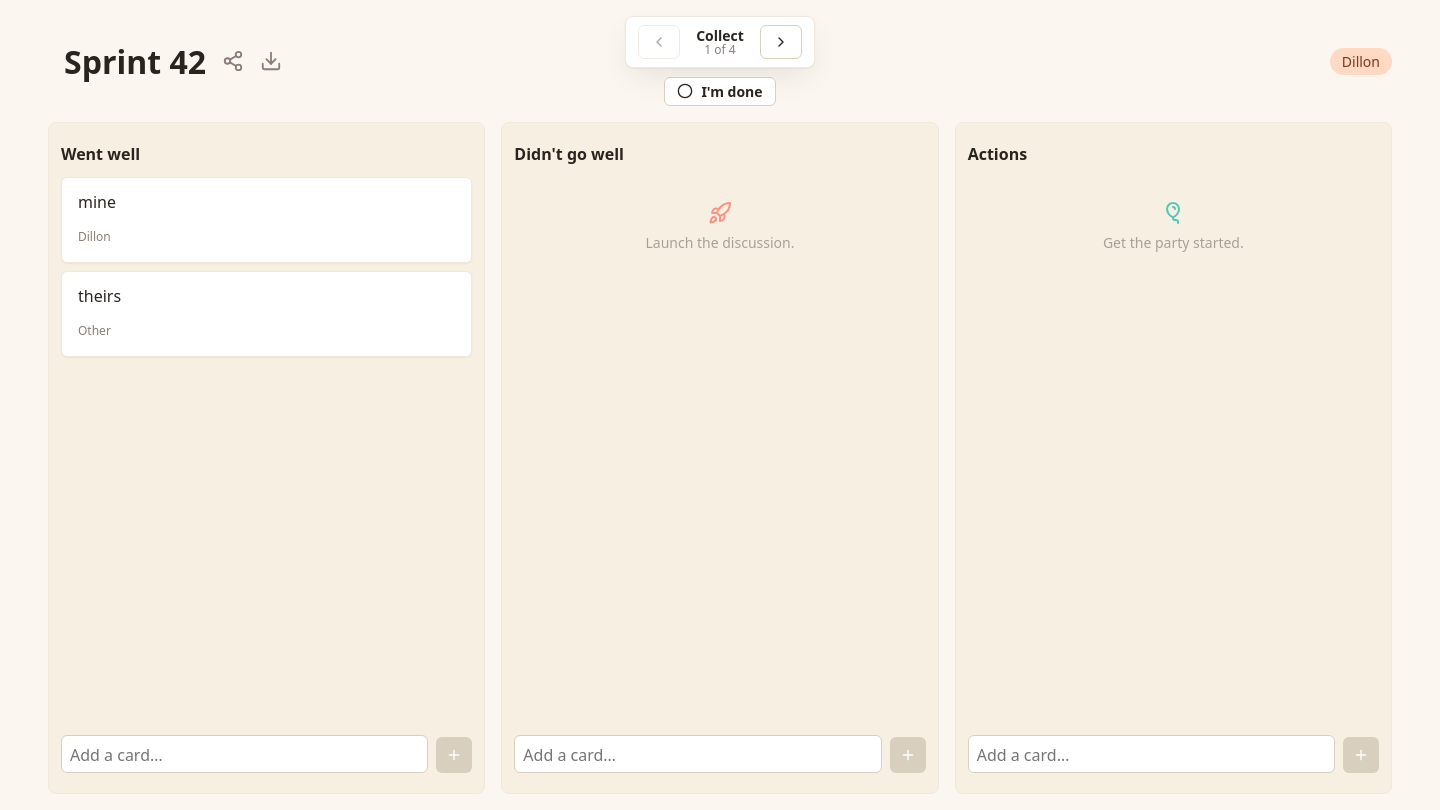
Test case: Room page › Discuss phase: hides VoteBudget + controls; renders aggregate badges from non-zero totals
Click the button named "Advance: Vote". click: x=781, y=42
box: x1=760 y1=25 x2=802 y2=59
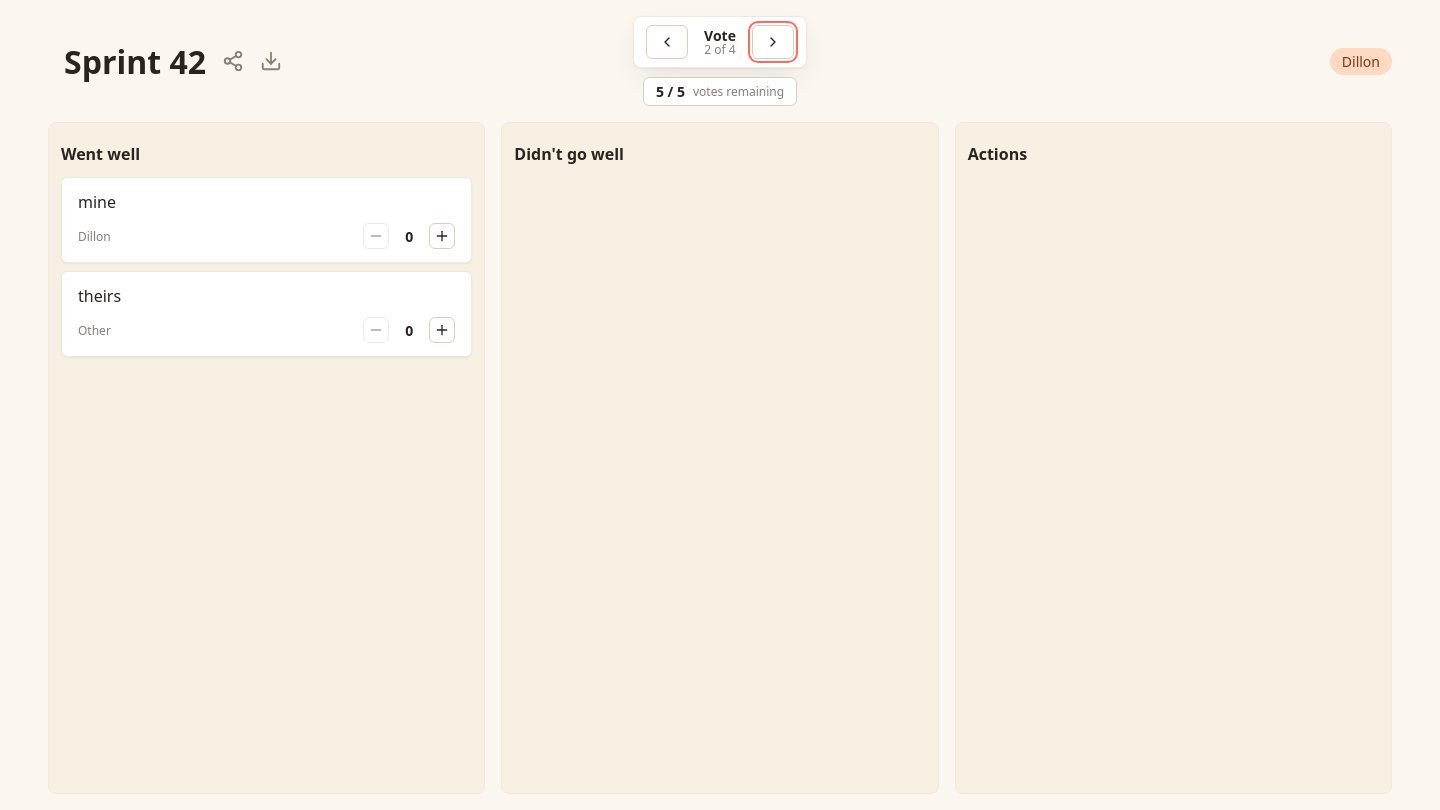
Click the 1st button named "cast a vote". click: x=442, y=236
box: x1=429 y1=223 x2=455 y2=249
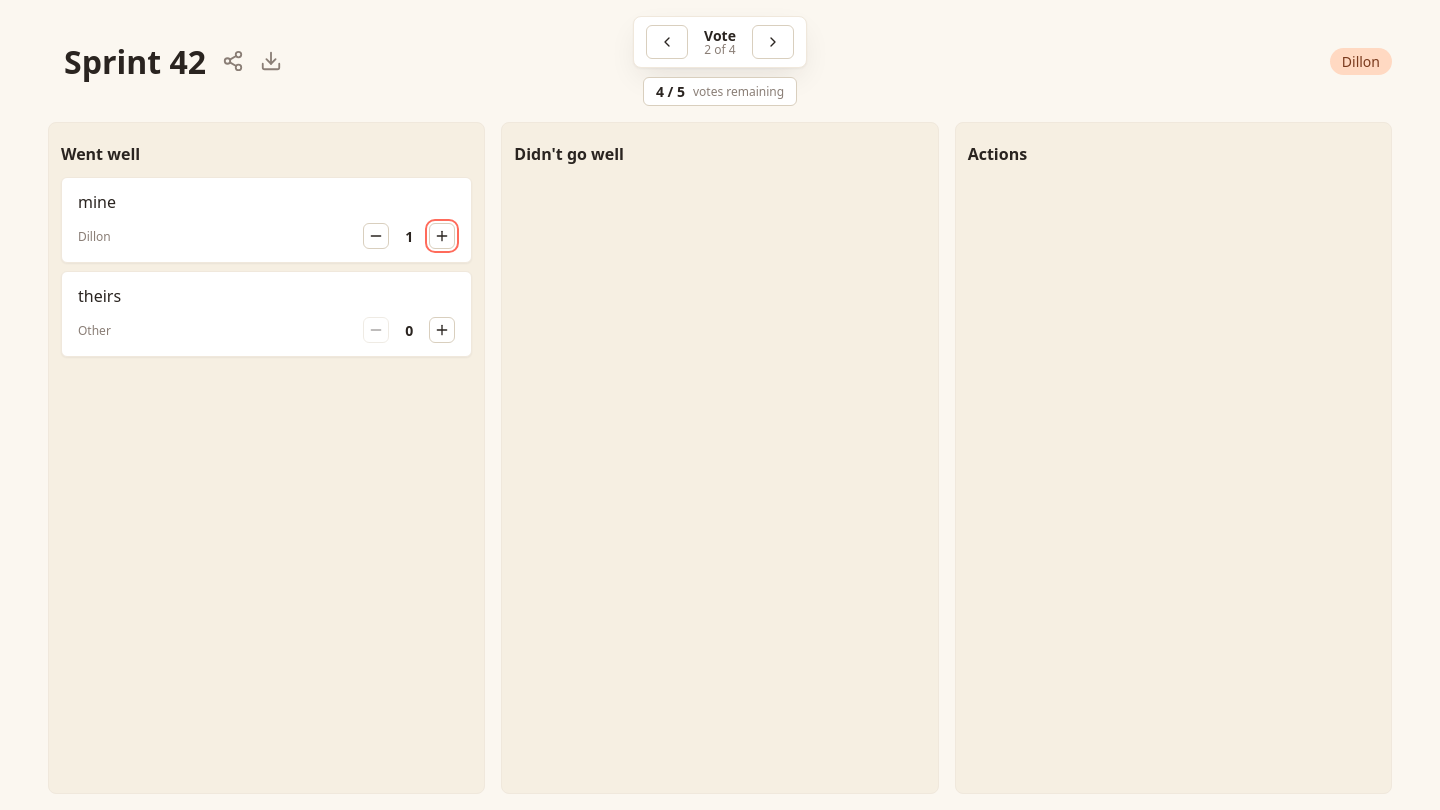
Click the 1st button named "cast a vote". click: x=442, y=236
box: x1=429 y1=223 x2=455 y2=249
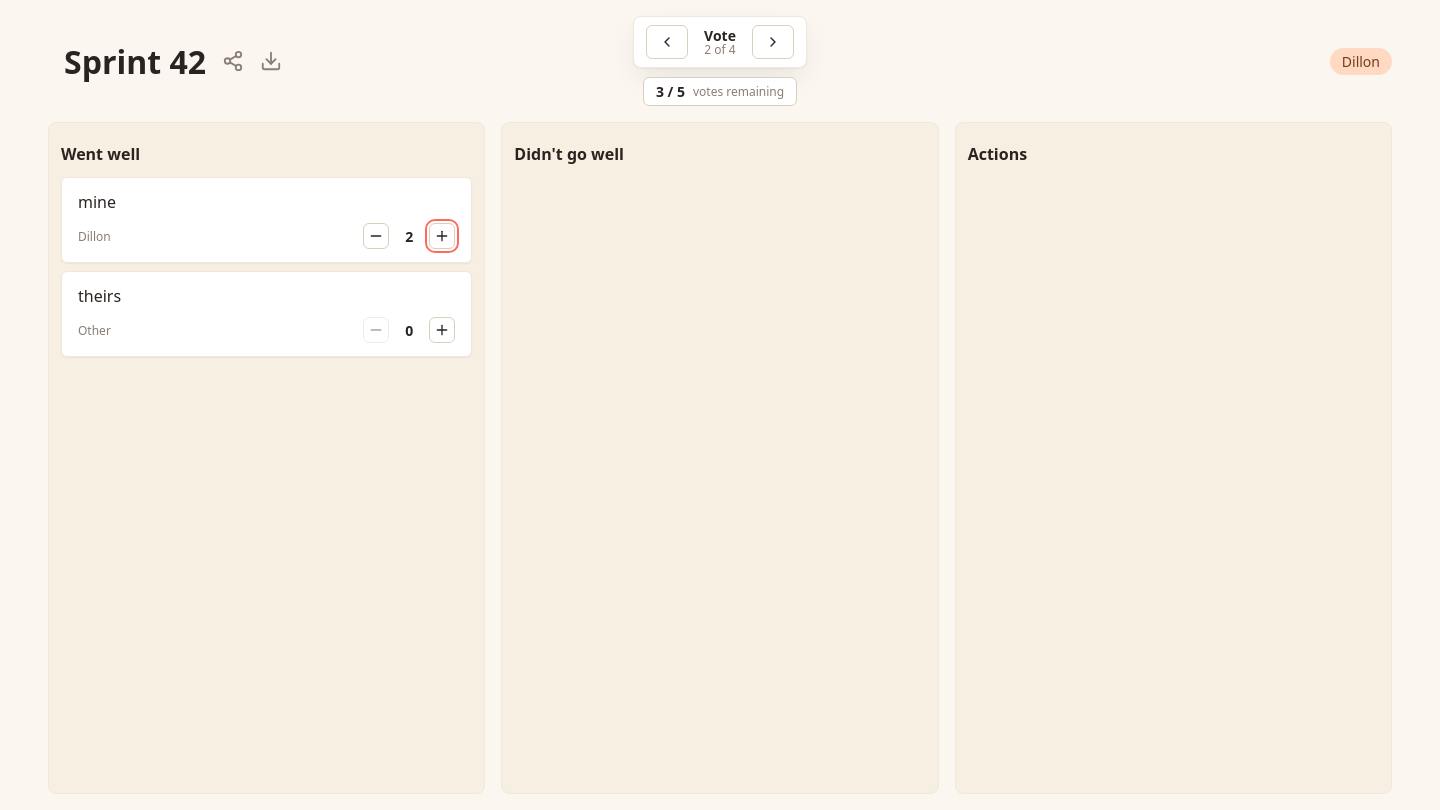
Click the button named "Advance: Discuss". click: x=773, y=42
box: x1=752 y1=25 x2=794 y2=59
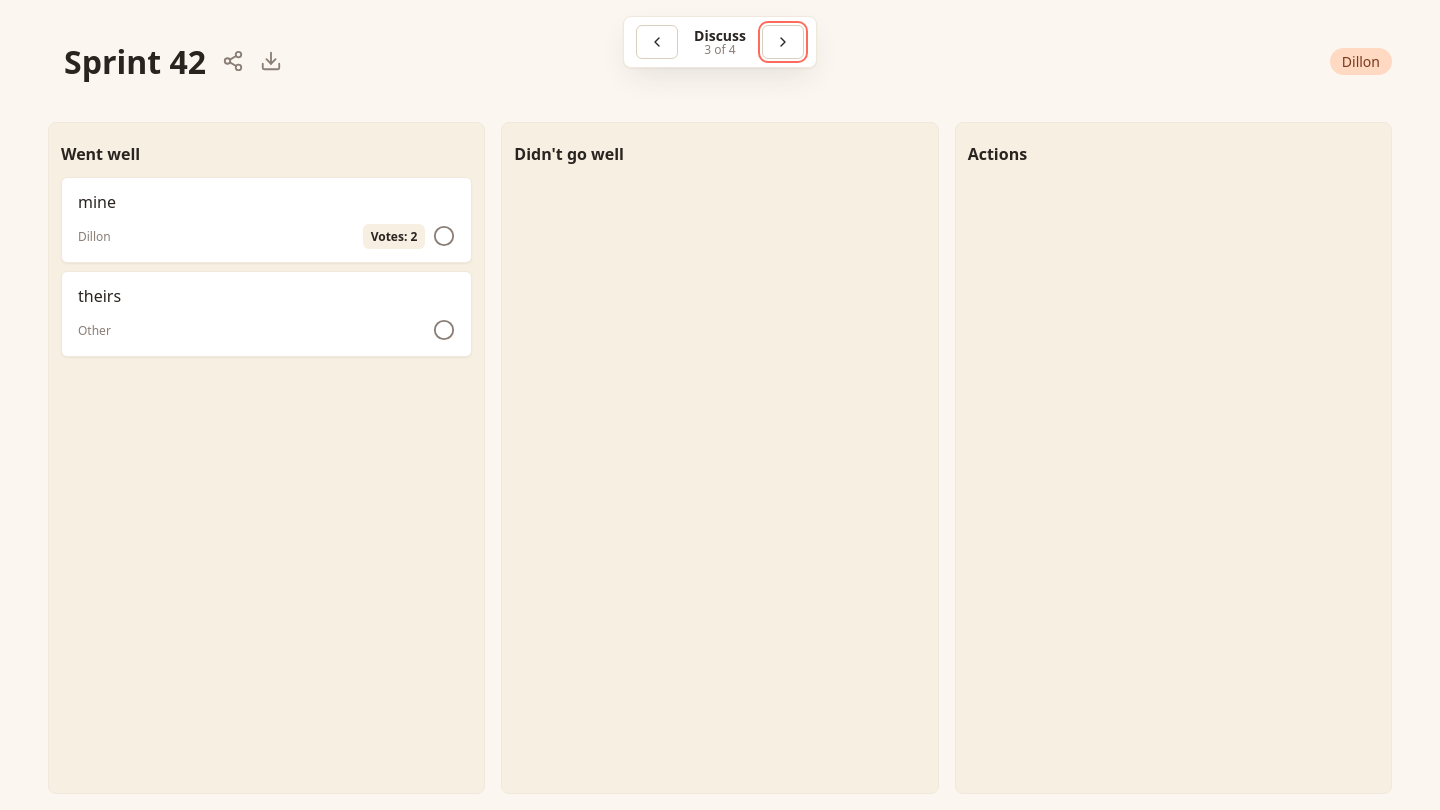
Expected: the text labelled "votes remaining" is gone
Expected: the number of elements named "total votes" is 1, x1=363 y1=224 x2=425 y2=248
Expected: the text named "total votes" reads "Votes: 2", x1=371 y1=228 x2=417 y2=244
